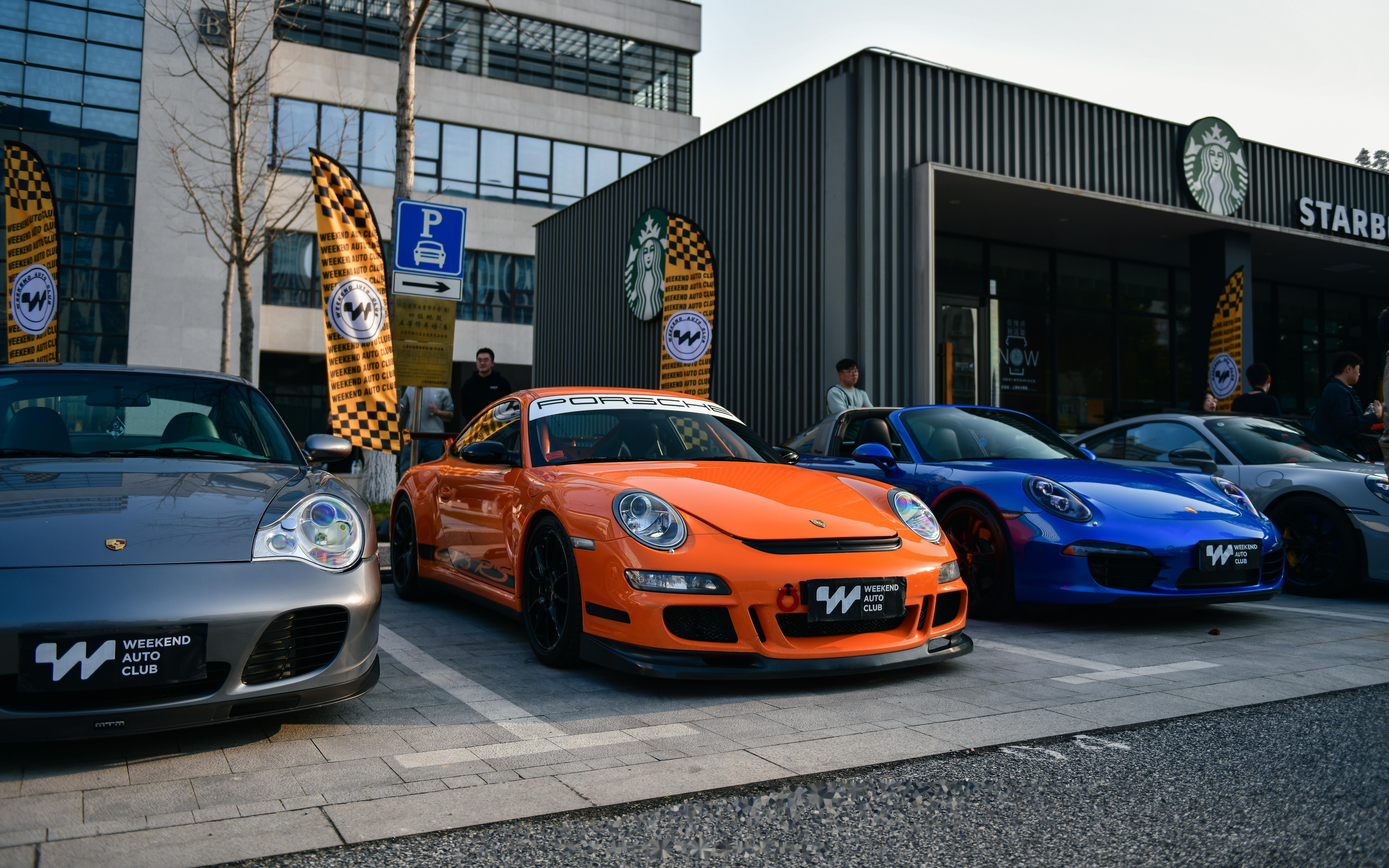other: (397, 388, 981, 674), (0, 358, 412, 729), (778, 402, 1293, 618)
